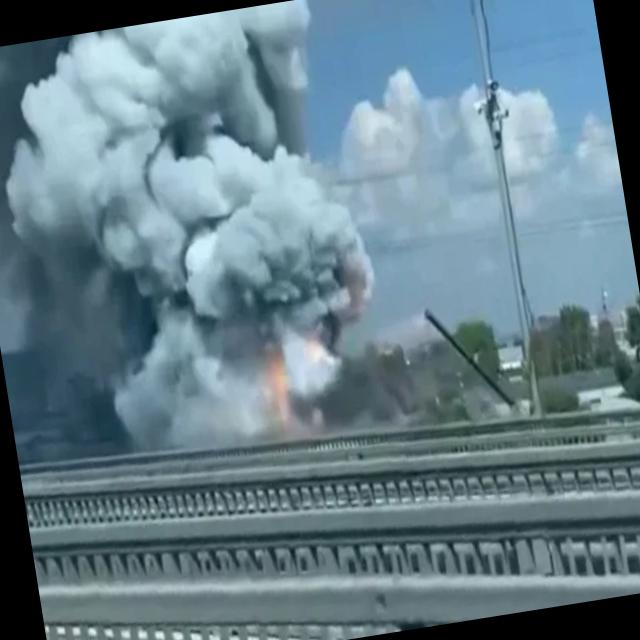Smoke: (0, 0, 396, 476)
